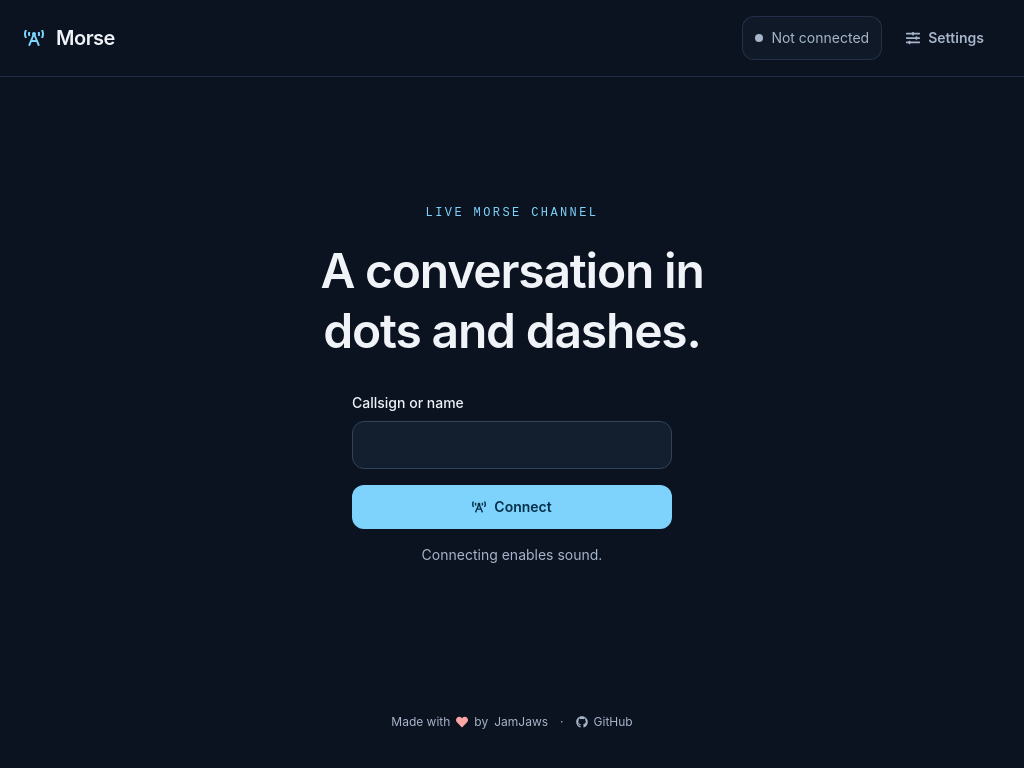
Test case: registers the saved frequency on join and restores saved settings on screen
What coordinates should you click on to do the following:
click the button "Connect"
I would click on:
 (512, 506)
Its box is [352,484,672,528].
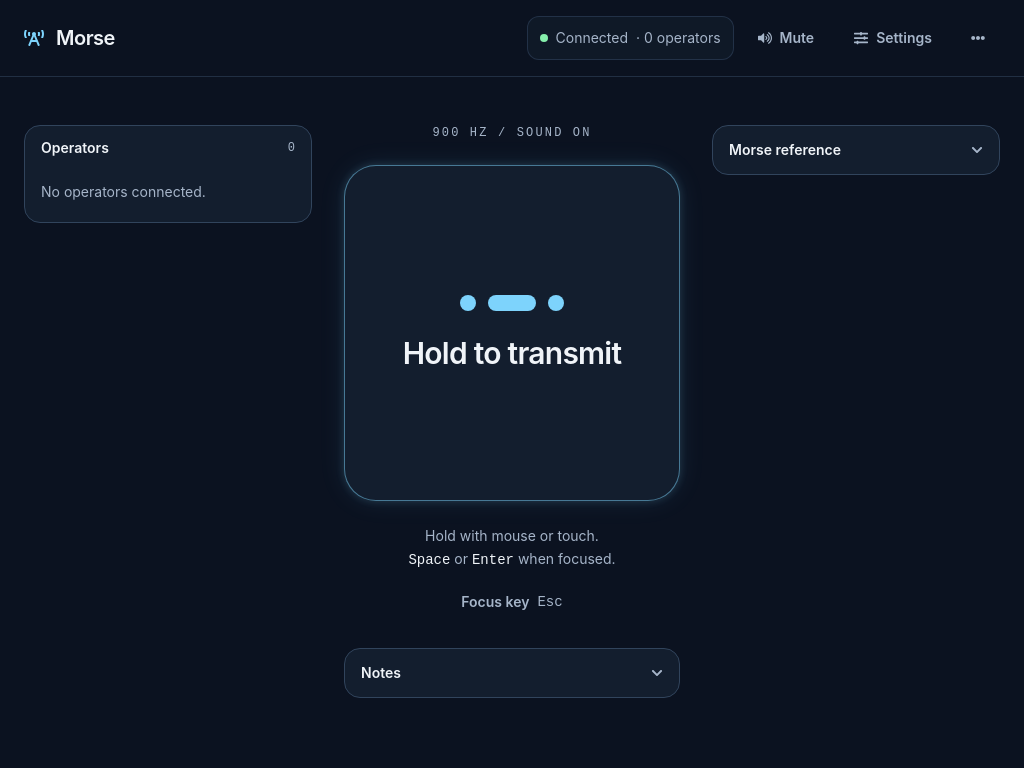
What coordinates should you click on to do the following:
click the button "Settings"
I would click on:
 (893, 38)
Its box is [838,16,948,60].
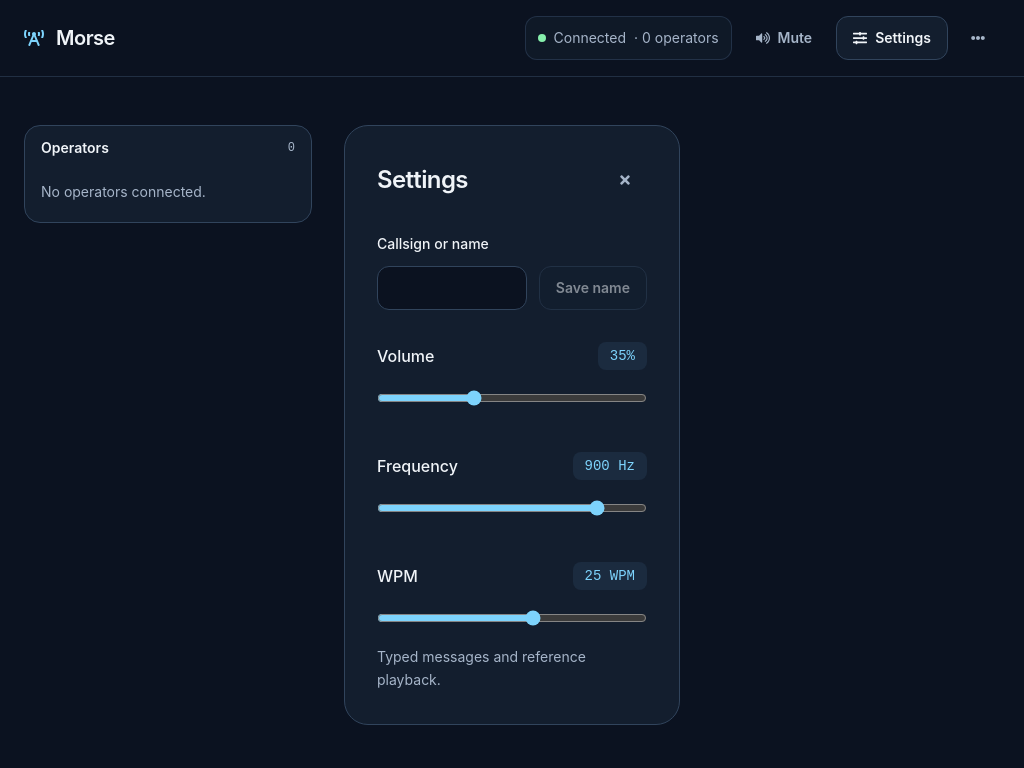
Expected: the text "900 Hz" is shown, [573,452,647,480]
Expected: the slider labelled "Volume" holds "35", [377,382,647,414]
Expected: the slider labelled "WPM" holds "25", [377,602,647,634]
